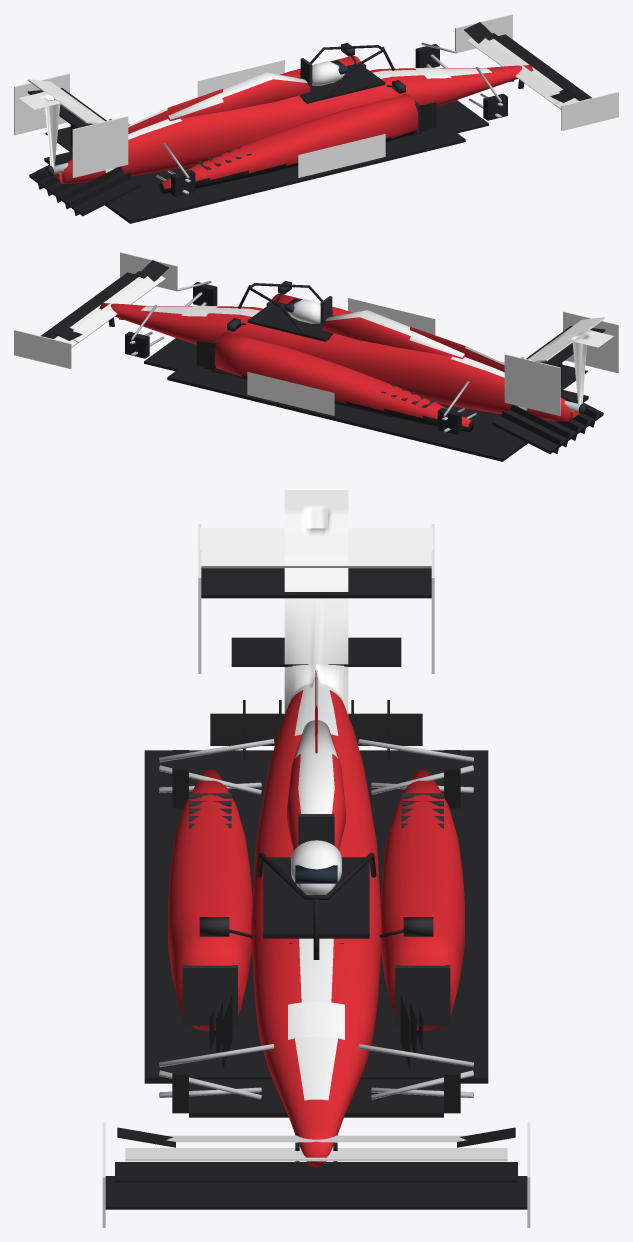
The model's file is F1_Body.fbx.
The picture shows the model from 3 angles, top to bottom: view 1: azimuth 30°, elevation 25°; view 2: azimuth 150°, elevation 25°; view 3: azimuth 270°, elevation 25°; orthographic projection. The views are drawn at different scales.
Visible parts, largest first — view 1: F1_Body; view 2: F1_Body; view 3: F1_Body.
Part boxes in pixels (left/top/right/bottom): F1_Body: left=14, top=14, right=618, bottom=223; F1_Body: left=14, top=252, right=618, bottom=461; F1_Body: left=102, top=490, right=530, bottom=1227.
Size of the model in its own units: 201 by 587 by 111.
